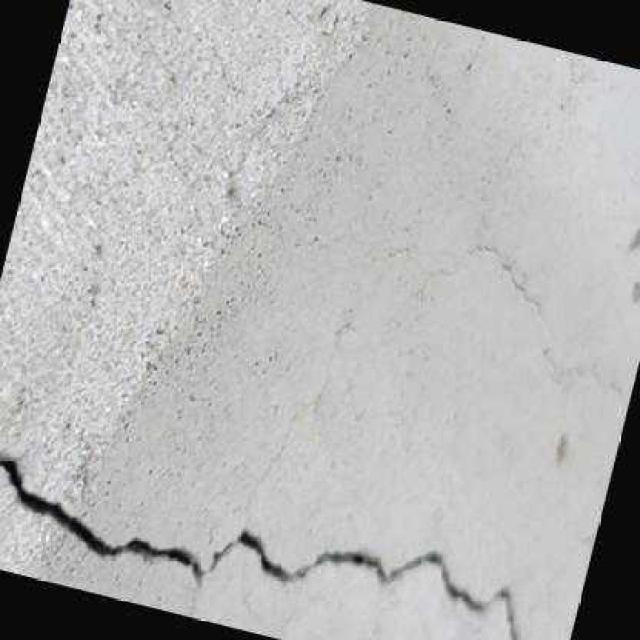D00: (0, 460, 517, 640)
